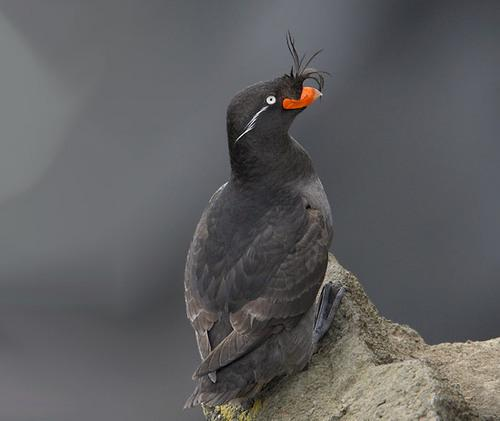005.Crested_Auklet: (182, 28, 348, 414)
